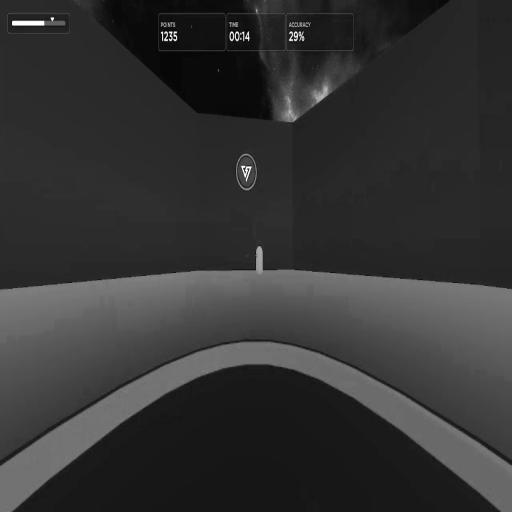Crosshair: (255, 254, 257, 257)
Target: (256, 245, 263, 276)
